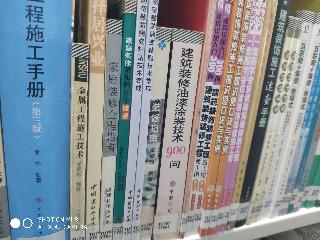book-spine: (0, 0, 73, 240), (236, 0, 290, 228), (258, 12, 315, 220), (228, 0, 278, 230), (149, 30, 202, 240), (215, 0, 260, 232), (253, 19, 304, 223), (221, 0, 266, 231), (200, 0, 244, 236), (209, 1, 252, 235), (247, 17, 295, 226), (191, 0, 233, 235), (177, 0, 217, 239), (186, 0, 223, 237), (137, 27, 171, 240), (131, 1, 159, 240), (121, 1, 148, 240), (112, 1, 136, 240), (98, 20, 122, 240), (84, 1, 106, 239), (70, 44, 87, 240)
